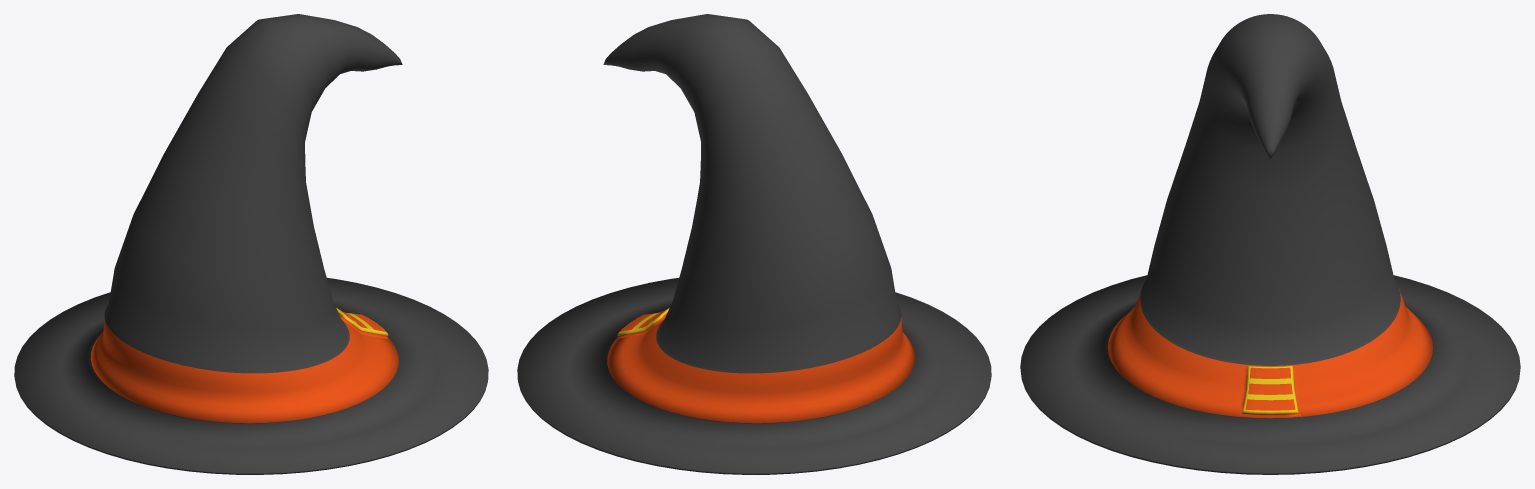
File: Hat.fbx
3 views of the same model, side by side, from view 1: azimuth 30°, elevation 25°; view 2: azimuth 150°, elevation 25°; view 3: azimuth 270°, elevation 25° (orthographic). The views are drawn at different scales.
Parts seen in each view (by area): view 1: Circle; view 2: Circle; view 3: Circle.
Boxes of the visible parts, x1=… form: Circle: x1=14, y1=14, x2=488, y2=474; Circle: x1=517, y1=14, x2=991, y2=474; Circle: x1=1020, y1=14, x2=1520, y2=474.
Size of the model in its own units: 199 by 160 by 199.
